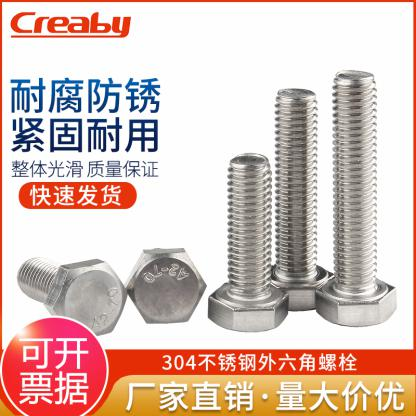FOD: (314, 66, 399, 331), (254, 88, 334, 315), (206, 152, 290, 334), (13, 253, 126, 341), (126, 246, 204, 326)
